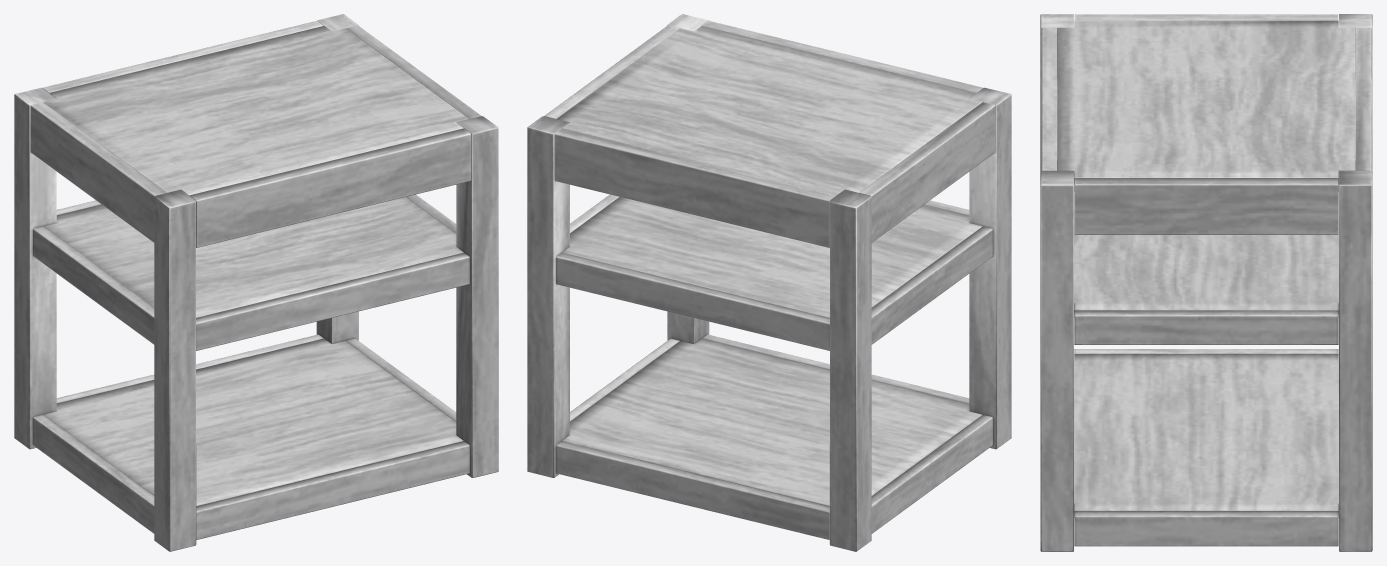
Rendered from side-table.glb.
3 views of the same model, side by side, from view 1: azimuth 30°, elevation 25°; view 2: azimuth 150°, elevation 25°; view 3: azimuth 270°, elevation 25° (orthographic). The views are drawn at different scales.
Visible parts, largest first — view 1: side_table_01; view 2: side_table_01; view 3: side_table_01.
Boxes of the visible parts, x1,y1,x2,y2 form: side_table_01: (14, 14, 498, 551); side_table_01: (527, 14, 1011, 551); side_table_01: (1040, 14, 1372, 551).
Bounding box in the file's own units: 0.55 × 0.5507 × 0.45.
Materials: 1 (1 with a texture image).
